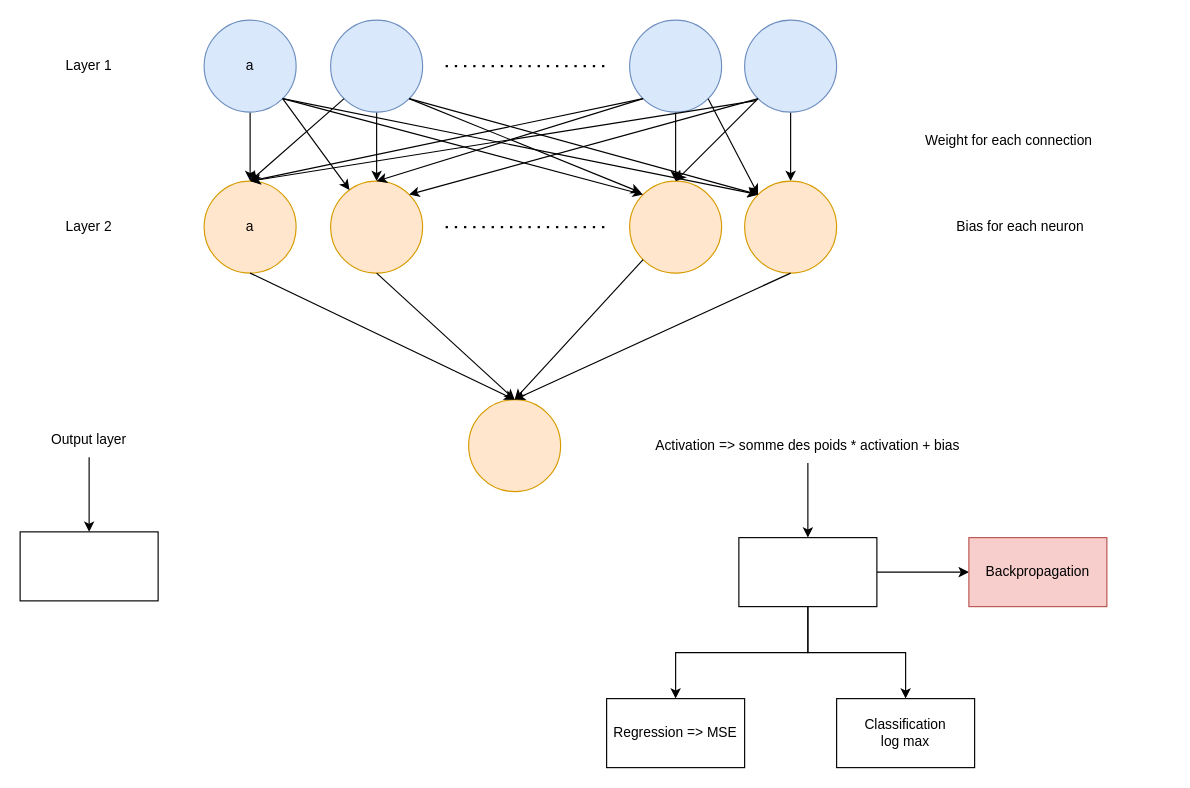
Image size: 1190x788. Some labels were removed from this diagram. The shapes that lost their labels are listed below. From the top down, each one's box as (x1, y1, x2, y2) in pixels, then its label:
(19, 531, 158, 601): As many as needed output: for multiclass > 1 output per class
(738, 536, 877, 607): Calcul erreur
